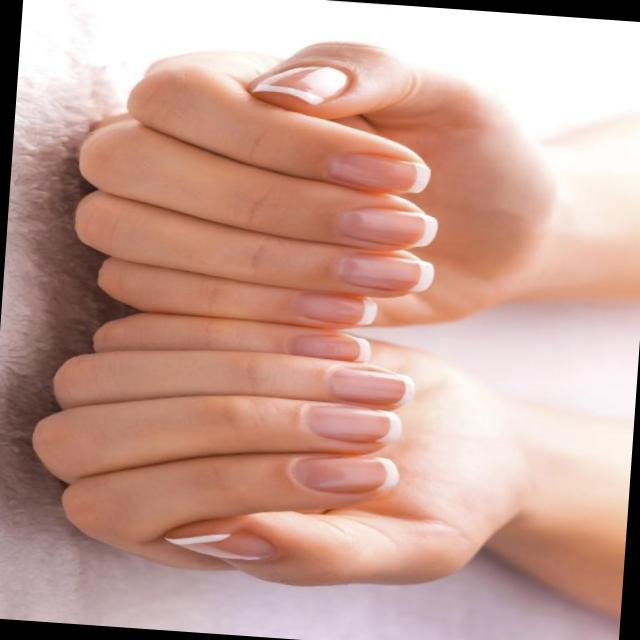Nail: (326, 153, 428, 193), (336, 206, 436, 246), (291, 456, 397, 493), (251, 65, 348, 105), (336, 253, 433, 291), (304, 406, 401, 442), (328, 368, 413, 406), (162, 530, 273, 559), (293, 292, 376, 324), (286, 335, 369, 362)
